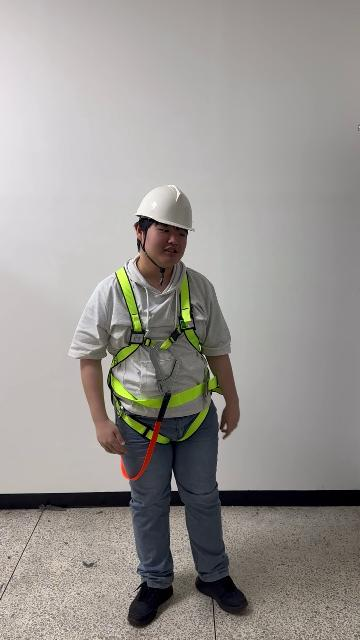helmet_worn: (133, 186, 195, 237)
shoe_not_worn: (193, 571, 253, 618), (128, 582, 174, 629)
vest_worn: (108, 264, 226, 444)
